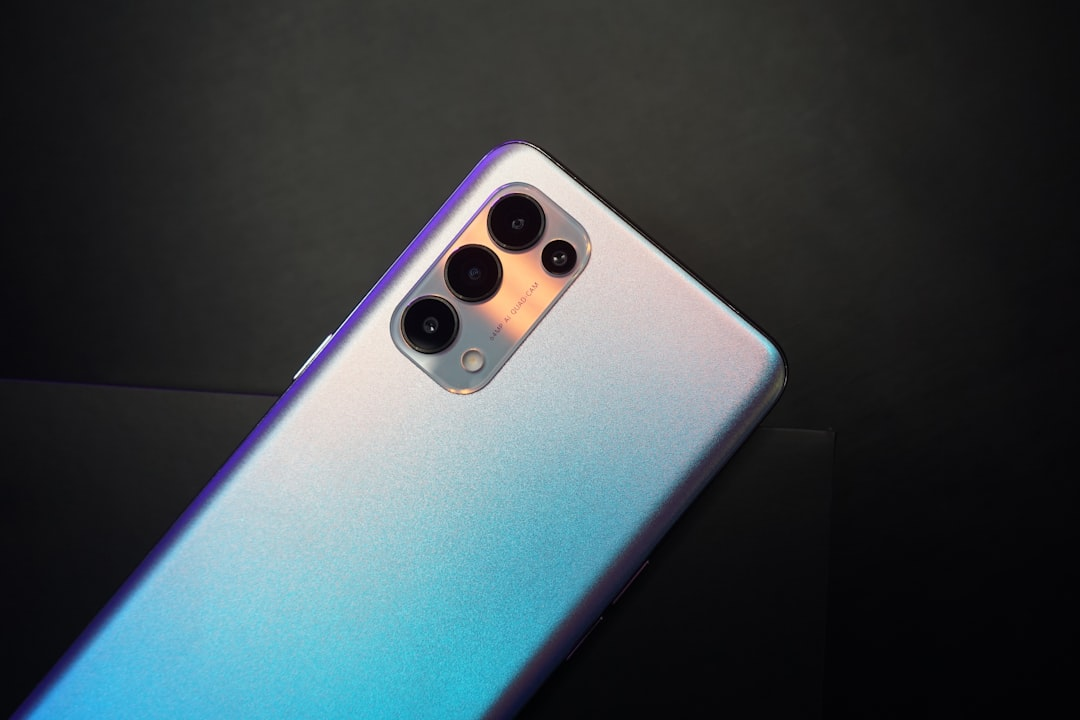phone: (1, 137, 791, 720)
